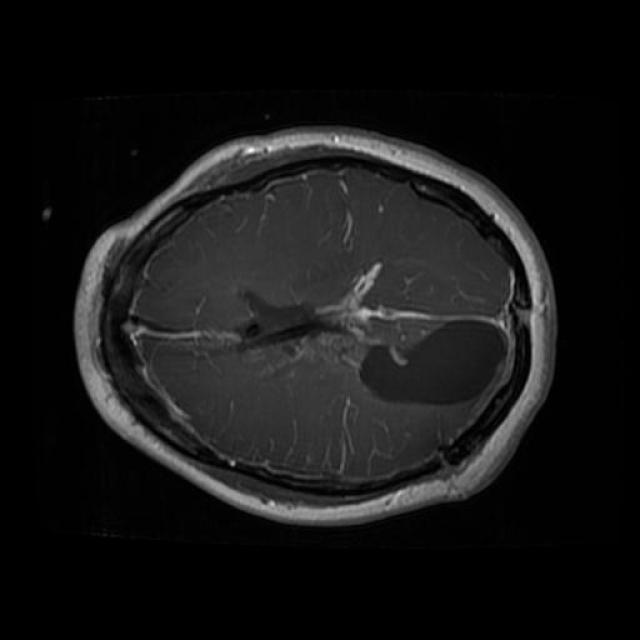Glioma: (361, 323, 506, 404), (238, 276, 382, 347)
